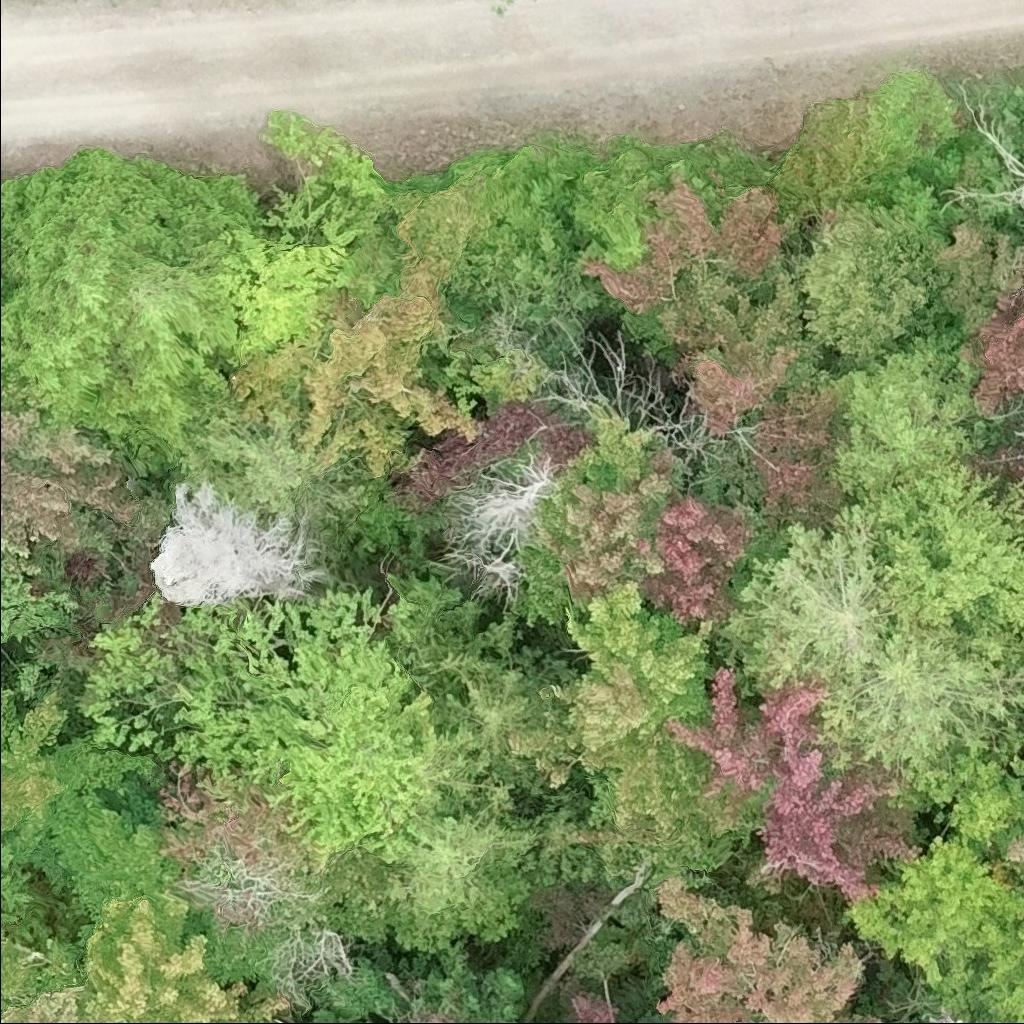crown: (75, 584, 437, 870), (0, 143, 265, 471), (662, 663, 925, 902), (224, 253, 491, 473), (517, 404, 752, 639), (502, 580, 718, 787), (157, 757, 334, 990), (0, 888, 292, 1023), (809, 612, 1023, 789), (711, 504, 899, 705), (653, 874, 888, 1023), (398, 612, 581, 794), (866, 456, 1023, 668), (0, 661, 156, 862), (577, 730, 774, 886), (838, 833, 1023, 988), (180, 389, 374, 527), (829, 332, 980, 507), (147, 473, 337, 610), (0, 401, 146, 572), (802, 194, 944, 369), (386, 805, 540, 955), (457, 456, 560, 602), (416, 725, 517, 818), (958, 287, 1023, 419), (926, 940, 1023, 1023), (0, 986, 98, 1023), (566, 990, 630, 1023), (1006, 826, 1023, 872), (419, 1008, 458, 1023)
